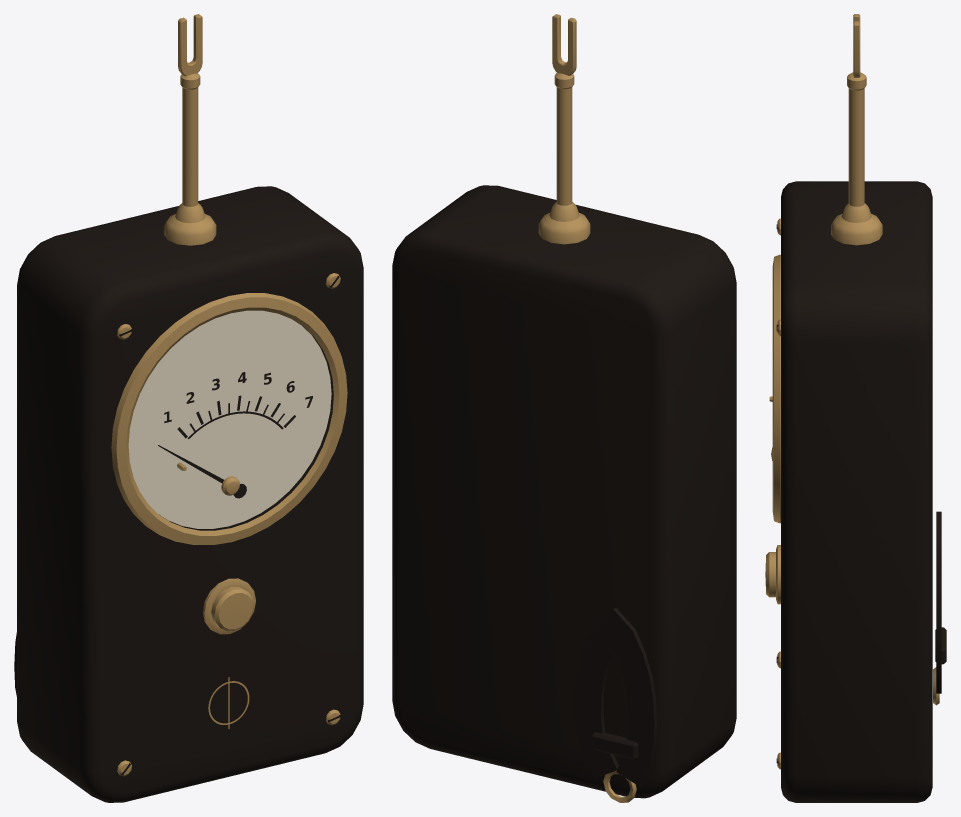
File: resonance_meter.glb
3 views of the same model, side by side, from view 1: azimuth 30°, elevation 25°; view 2: azimuth 150°, elevation 25°; view 3: azimuth 270°, elevation 25° (orthographic).
Visible parts, largest first — view 1: resonance_meter; view 2: resonance_meter; view 3: resonance_meter.
Boxes of the visible parts, x1,y1,x2,y2 form: resonance_meter: [14, 14, 363, 802]; resonance_meter: [392, 14, 736, 802]; resonance_meter: [765, 14, 946, 802].
Bounding box in the file's own units: 0.085 × 0.2129 × 0.0478.
